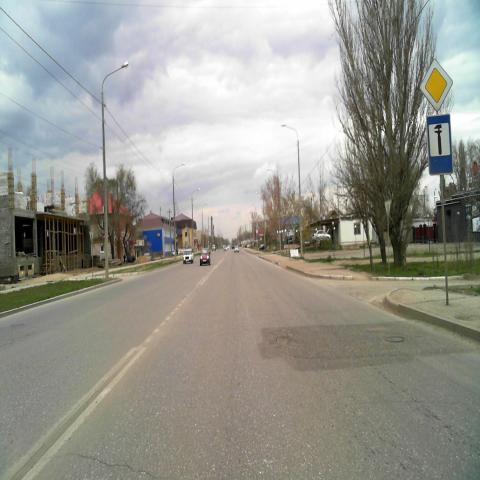7_4: (426, 112, 452, 174)
